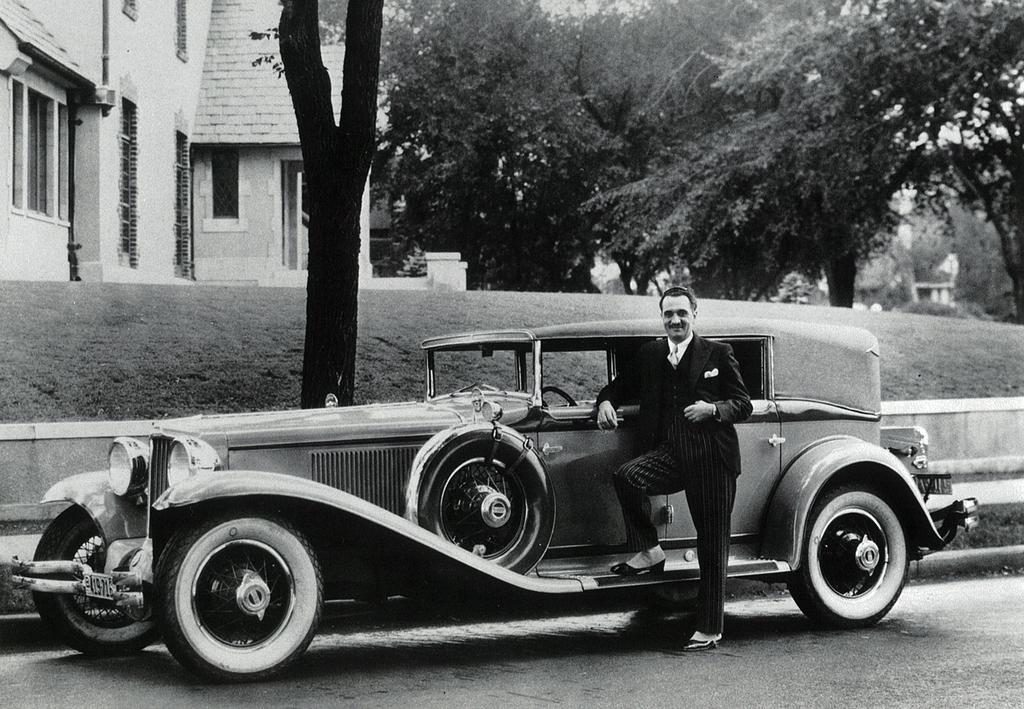cars: (9, 311, 967, 688)
